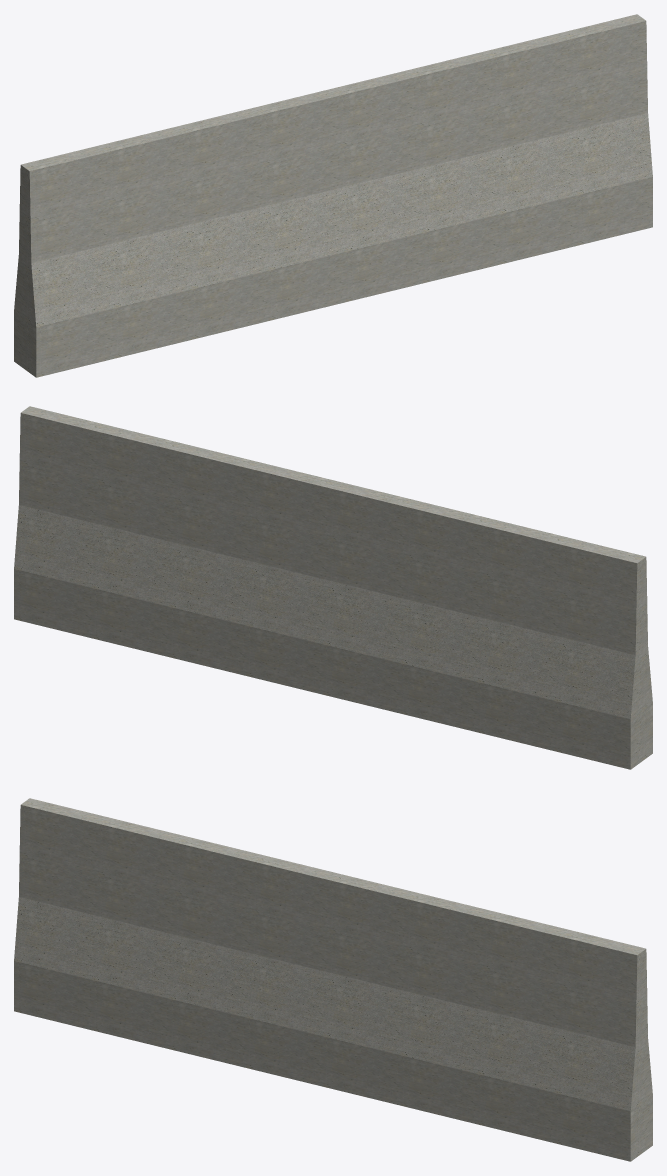
Rendered from thm_corl_imprv_wall_4x16_s04_l0.fbx.
The picture shows the model from 3 angles, top to bottom: view 1: azimuth 30°, elevation 25°; view 2: azimuth 150°, elevation 25°; view 3: azimuth 330°, elevation 25°; orthographic projection.
Parts seen in each view (by area): view 1: mesh_node; view 2: mesh_node; view 3: mesh_node.
Part boxes in pixels (bbox=[...]): mesh_node: bbox=[14, 14, 652, 377]; mesh_node: bbox=[14, 406, 652, 769]; mesh_node: bbox=[14, 798, 652, 1161].
Bounding box in the file's own units: 16 × 5 × 1.
1 material, 1 textured.
